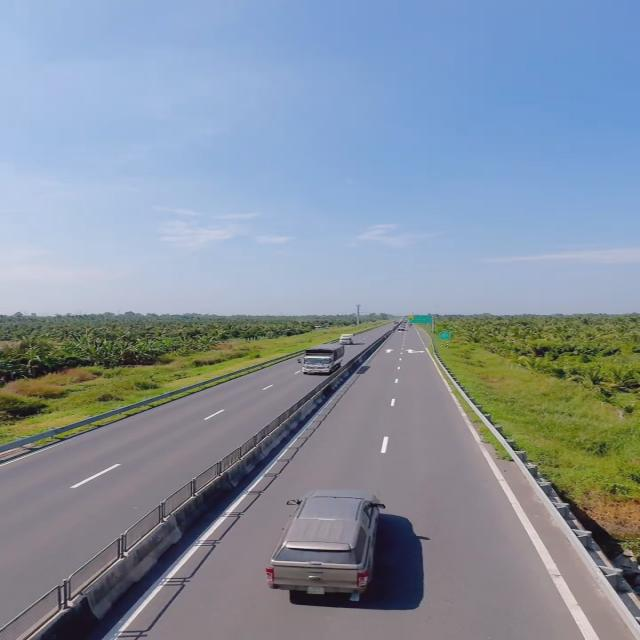car: (260, 492, 386, 596)
truck: (297, 344, 345, 376)
